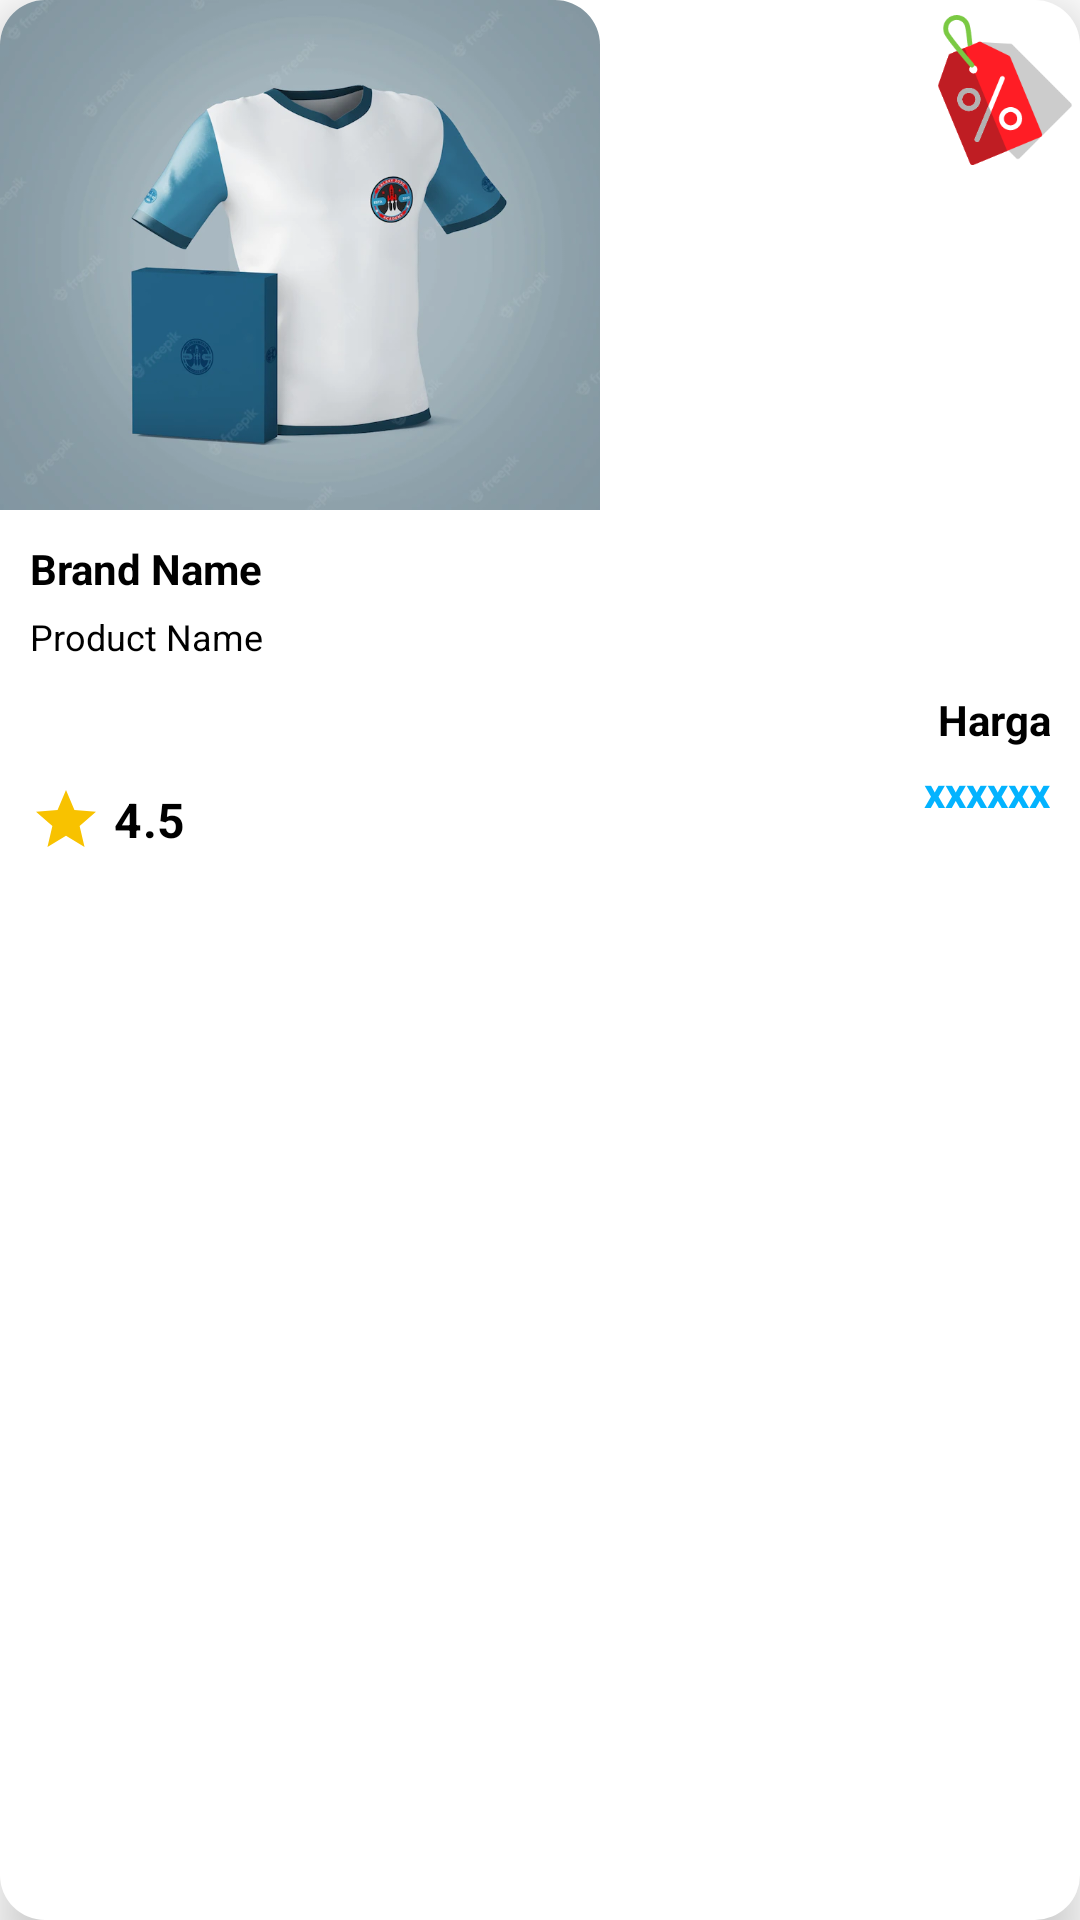

Where icons sit on this 1080 × 1920 app screen, as (x1, y1, x2, y2):
price tag: (938, 15, 1072, 165)
